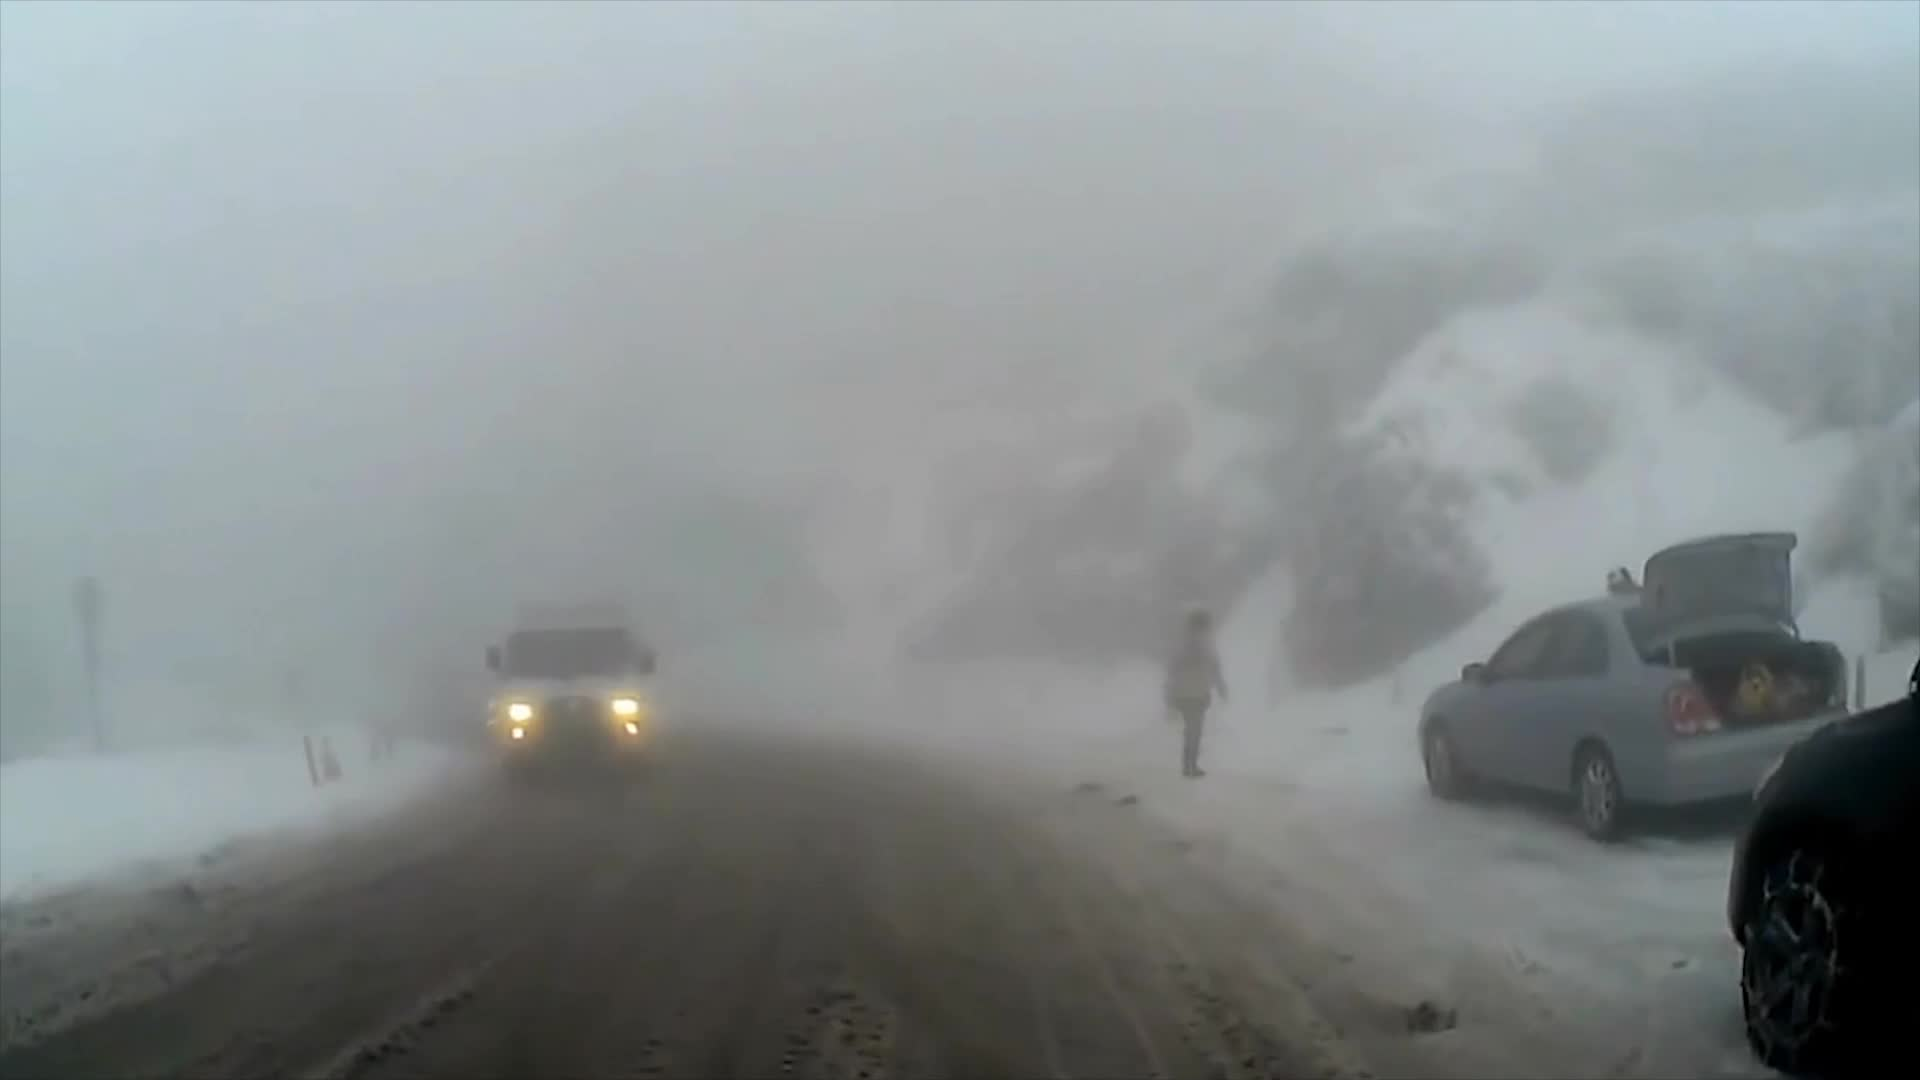pedestrian: (1161, 606, 1227, 784)
vehicle: (1412, 529, 1859, 843), (1724, 682, 1919, 1080), (481, 600, 658, 795)
